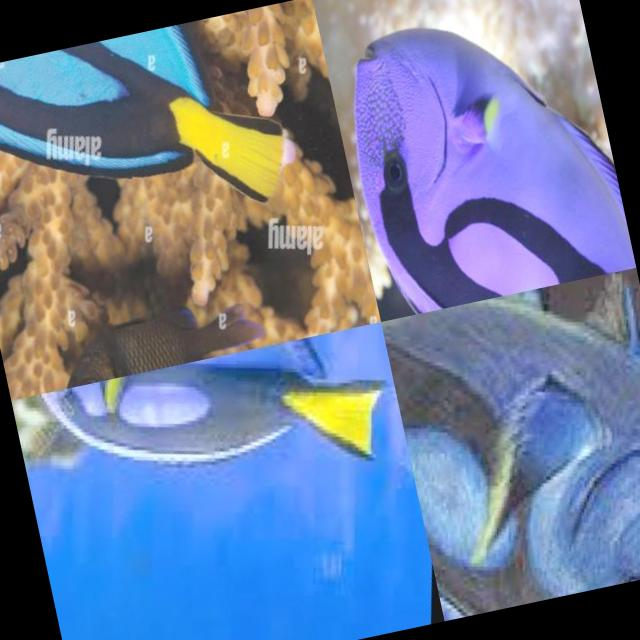BlueTang: (9, 321, 414, 564), (332, 0, 635, 318), (379, 266, 640, 621), (0, 4, 304, 264)
